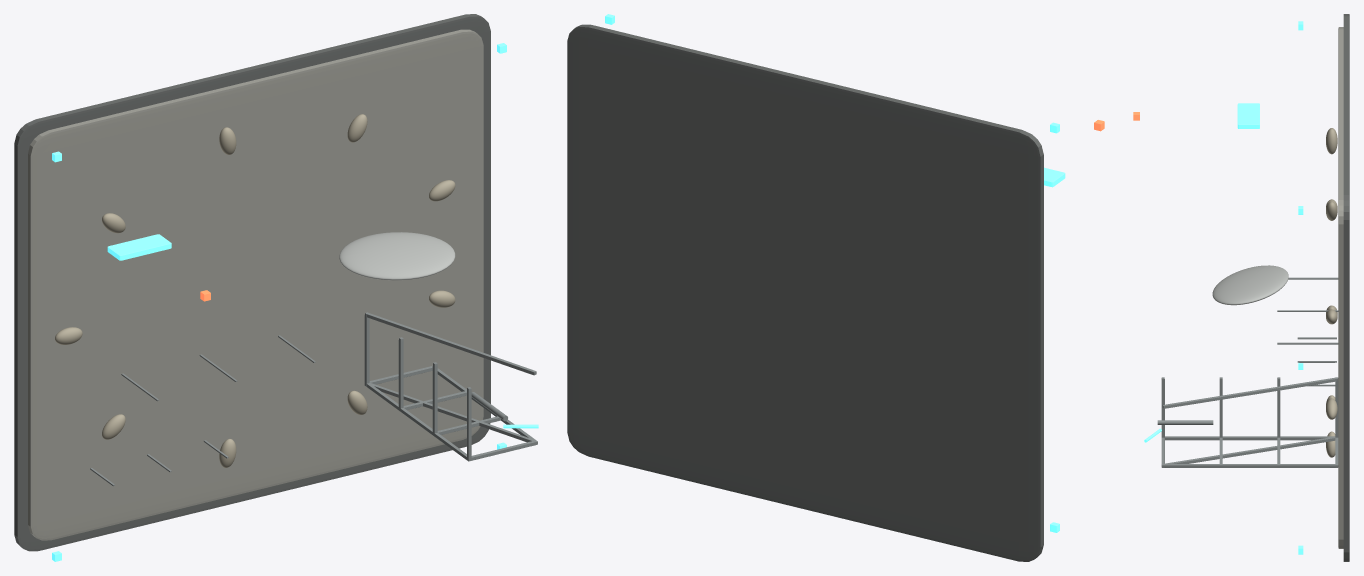
Rendered from b-43-command-relay-lod2.glb.
3 views of the same model, side by side, from view 1: azimuth 30°, elevation 25°; view 2: azimuth 150°, elevation 25°; view 3: azimuth 270°, elevation 25° (orthographic). The views are drawn at different scales.
Visible parts, largest first — view 1: foundation_inner_pad, foundation, relay_dish_fixed_dish, relay_whip_array_0, scissor_mast_brace_a_1.05, scissor_mast_brace_a_-1.05, scissor_mast_column_w_s; view 2: foundation; view 3: foundation, foundation_inner_pad, relay_dish_fixed_dish, scissor_mast_brace_a_1.05, scissor_mast_column_w_s, scissor_mast_brace_a_-1.05, scissor_mast_column_e_s, relay_whip_array_0, relay_dish_scissor_mast.
Part boxes in pixels (x1,y1,x2,y2): foundation_inner_pad: (28,29,483,540); foundation: (14,14,490,551); relay_dish_fixed_dish: (339,232,455,280); relay_whip_array_0: (107,234,171,260); scissor_mast_brace_a_1.05: (367,313,536,375); scissor_mast_brace_a_-1.05: (369,383,533,442); scissor_mast_column_w_s: (366,383,466,459); foundation: (567,24,1043,561); foundation: (1343,14,1349,561); foundation_inner_pad: (1338,27,1343,548); relay_dish_fixed_dish: (1212,265,1288,305); scissor_mast_brace_a_1.05: (1162,377,1336,408); scissor_mast_column_w_s: (1165,436,1335,440); scissor_mast_brace_a_-1.05: (1165,437,1335,464); scissor_mast_column_e_s: (1164,464,1335,467); relay_whip_array_0: (1237,103,1259,128); relay_dish_scissor_mast: (1157,420,1213,424).
Size of what is drawn, in the model's own units: 15 by 13 by 6.99.
